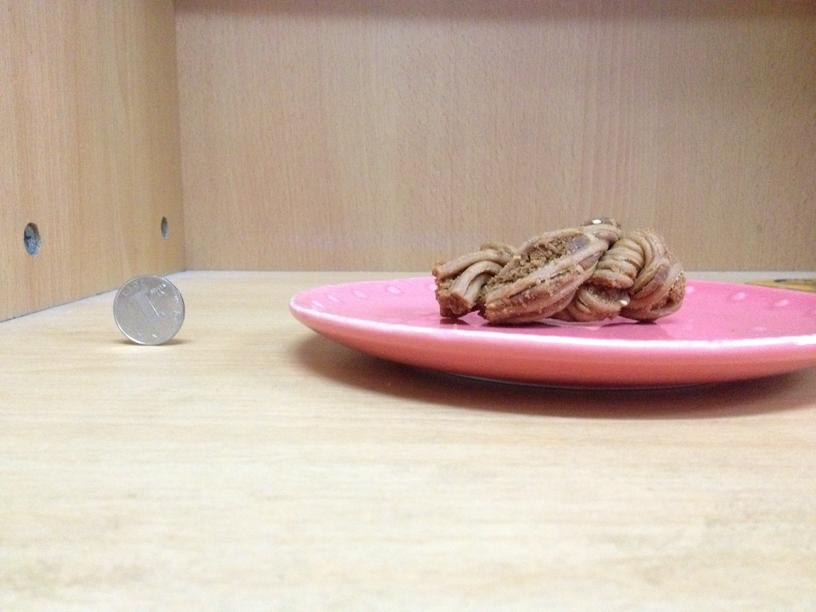coin: (112, 273, 187, 343)
fired_dough_twist: (430, 225, 682, 325)
